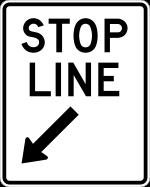Stop: (20, 14, 138, 166)
